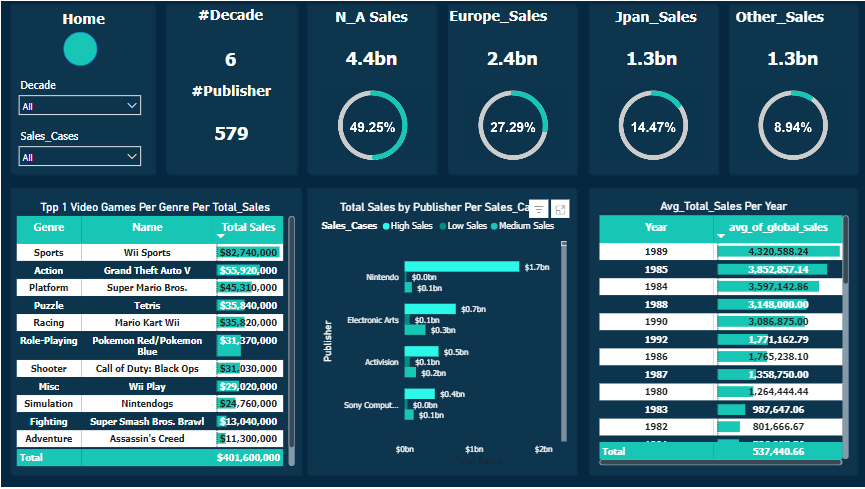

The dashboard page shown, as its layout file describes it:
{"tool":"powerbi","page":{"name":"Details","canvas":[1280,720],"ordinal":3},"visuals":[{"type":"shape","box":[8.5,0,222.5,259.4],"z":0},{"type":"shape","box":[92.4,45.4,50.4,50.4],"z":1000},{"type":"shape","box":[239.5,0,202.7,259.4],"z":2000},{"type":"shape","box":[449.3,0,200,259.4],"z":3000},{"type":"shape","box":[657.2,0,200,259.4],"z":4000},{"type":"shape","box":[865,0,200,259.4],"z":5000},{"type":"shape","box":[1072.9,0,200,259.4],"z":6000},{"type":"card","title":"Global Sales","fields":{"Values":["Measures (3).North_America_Sales"]},"box":[449.3,51,199.8,68],"z":7000},{"type":"payPalKPIDonutChart55A431AB15A540ED924ACD72ED8D259F","fields":{"myvalue":["Measures (3).%North_America_Sales"]},"box":[459.2,119.1,181.4,130.4],"z":8000},{"type":"card","title":"Global Sales","fields":{"Values":["Measures (3).Europe_Sales"]},"box":[657.6,51,198.4,68],"z":9000},{"type":"payPalKPIDonutChart55A431AB15A540ED924ACD72ED8D259F","fields":{"myvalue":["Measures (3).%Europe_Sales"]},"box":[671.8,119.1,171.5,130.4],"z":10000},{"type":"card","title":"Global Sales","fields":{"Values":["Measures (3).Japan_Sales"]},"box":[864.6,51,198.4,68],"z":11000},{"type":"payPalKPIDonutChart55A431AB15A540ED924ACD72ED8D259F","fields":{"myvalue":["Measures (3).%Japan_Sales"]},"box":[880.2,119.1,172.9,130.4],"z":12000},{"type":"card","title":"Global Sales","fields":{"Values":["Measures (3).Japan_Sales"]},"box":[1072.9,51,198.4,68],"z":13000},{"type":"payPalKPIDonutChart55A431AB15A540ED924ACD72ED8D259F","fields":{"myvalue":["Measures (3).%Other_Sales"]},"box":[1084.3,119.1,177.2,130.4],"z":14000},{"type":"textbox","box":[449.3,4.3,199.8,35.4],"z":15000},{"type":"shape","box":[8.4,272.1,440.1,433.4],"z":16000},{"type":"tableEx","title":"Tpp 1 Video Games Per Genre Per Total_Sales","fields":{"Values":["Video Games.Genre","Video Games.Name","Measures (3).Total Sales"]},"box":[16.8,294,423.3,399.8],"z":17000},{"type":"shape","box":[448.5,272.1,408.2,433.4],"z":18000},{"type":"clusteredBarChart","title":"Total Sales by Publisher Per Sales_Cases","fields":{"Category":["Video Games.Publisher"],"Series":["Video Games.Sales_Cases"],"Y":["Measures (3).Total Sales"]},"box":[470.3,294,372.9,399.8],"z":19000},{"type":"shape","box":[865.1,272.1,406.5,433.4],"z":20000},{"type":"tableEx","title":"Avg_Total_Sales Per Year","fields":{"Values":["Video Games.Year","Measures (3).avg_of_global_sales"]},"box":[880.2,293.4,381.3,399.7],"z":21000},{"type":"card","title":"#Decade","fields":{"Values":["Measures (3).#decade"]},"box":[249.4,7.1,180,136.1],"z":22000},{"type":"card","title":"#Publisher","fields":{"Values":["Measures (3).#publisher"]},"box":[250.9,119.1,180,130.4],"z":23000},{"type":"slicer","fields":{"Values":["Video Games.Decade"]},"box":[15.1,109.2,201.6,65.5],"z":24000},{"type":"slicer","fields":{"Values":["Video Games.Sales_Cases"]},"box":[15.1,184.8,201.6,63.8],"z":25000},{"type":"textbox","box":[658.5,3,198.2,40.3],"z":26000},{"type":"textbox","box":[875.2,4,189.8,37],"z":27000},{"type":"textbox","box":[1083.5,4,196.5,42],"z":28000},{"type":"actionButton","box":[16.8,4,211.7,40.3],"z":29000}]}

Visuals, with their boxes in screenshot pixels (x1, y1, x2, y2), scaled from the page's 1280x720 canvas onto the 865x489 screenshot:
shape: 6, 0, 156, 176
shape: 62, 31, 97, 65
shape: 162, 0, 299, 176
shape: 304, 0, 439, 176
shape: 444, 0, 579, 176
shape: 585, 0, 720, 176
shape: 725, 0, 860, 176
"Global Sales" card: 304, 35, 439, 81
payPalKPIDonutChart55A431AB15A540ED924ACD72ED8D259F - Measures (3).%North_America_Sales: 310, 81, 433, 169
"Global Sales" card: 444, 35, 578, 81
payPalKPIDonutChart55A431AB15A540ED924ACD72ED8D259F - Measures (3).%Europe_Sales: 454, 81, 570, 169
"Global Sales" card: 584, 35, 718, 81
payPalKPIDonutChart55A431AB15A540ED924ACD72ED8D259F - Measures (3).%Japan_Sales: 595, 81, 712, 169
"Global Sales" card: 725, 35, 859, 81
payPalKPIDonutChart55A431AB15A540ED924ACD72ED8D259F - Measures (3).%Other_Sales: 733, 81, 852, 169
textbox: 304, 3, 439, 27
shape: 6, 185, 303, 479
"Tpp 1 Video Games Per Genre Per Total_Sales" tableEx: 11, 200, 297, 471
shape: 303, 185, 579, 479
"Total Sales by Publisher Per Sales_Cases" clusteredBarChart: 318, 200, 570, 471
shape: 585, 185, 859, 479
"Avg_Total_Sales Per Year" tableEx: 595, 199, 852, 471
"#Decade" card: 169, 5, 290, 97
"#Publisher" card: 170, 81, 291, 169
slicer - Video Games.Decade: 10, 74, 146, 119
slicer - Video Games.Sales_Cases: 10, 126, 146, 169
textbox: 445, 2, 579, 29
textbox: 591, 3, 720, 28
textbox: 732, 3, 864, 31
actionButton: 11, 3, 154, 30
